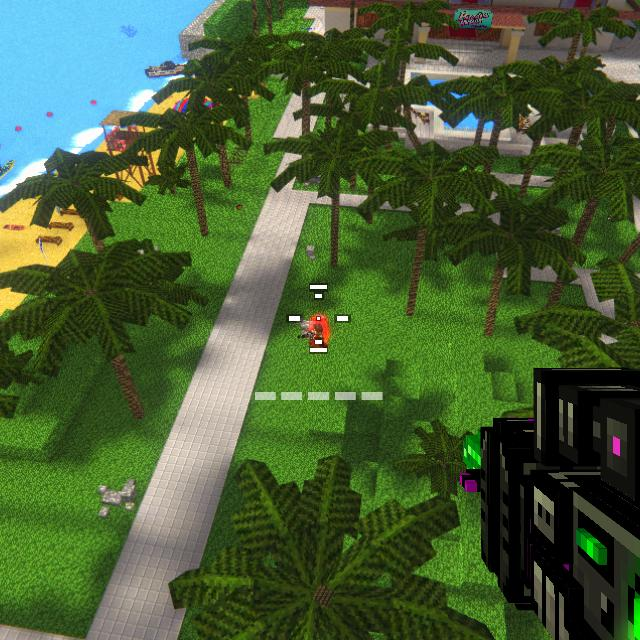Enemy: (310, 322, 325, 346)
